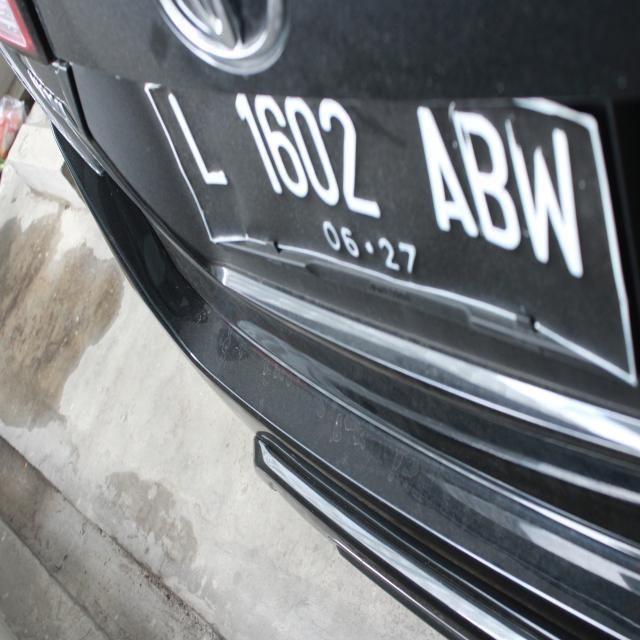0: (284, 96, 344, 208)
1: (233, 86, 283, 206)
2: (318, 81, 387, 224)
6: (252, 86, 311, 202)
A: (404, 80, 484, 240)
B: (446, 91, 533, 259)
L: (162, 80, 230, 202)
W: (501, 98, 592, 284)
